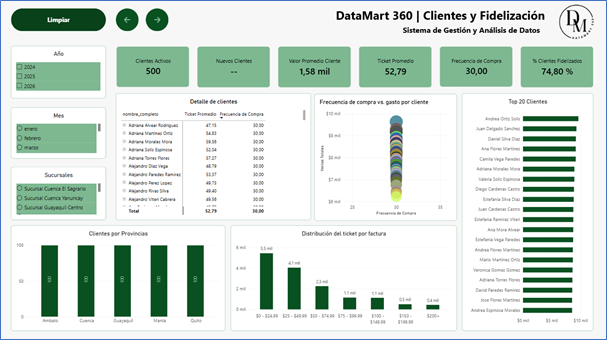

The page's visual inventory and layout, read from the dashboard file:
{"tool":"powerbi","page":{"name":"Clientes & Fidelización","canvas":[1920,1080],"ordinal":2},"visuals":[{"type":"textbox","box":[1055.3,24.4,677.8,55.6],"z":0,"group":"g1"},{"type":"actionButton","box":[465.1,27.1,72.4,72.4],"z":0,"group":"g3"},{"type":"listSlicer","fields":{"Values":["Calendario.Año"]},"box":[39.5,146.2,300,166],"z":0,"group":"g4"},{"type":"cardVisual","fields":{"Data":["_Medidas.Ticket Promedio"]},"box":[1138.9,148.1,230,130.3],"z":0,"group":"g5"},{"type":"actionButton","box":[371,27.1,72.4,72.4],"z":1000,"group":"g3"},{"type":"cardVisual","fields":{"Data":["_Medidas.Clientes Activos"]},"box":[372.2,148.1,230,129.6],"z":1000,"group":"g5"},{"type":"listSlicer","title":"Mes","fields":{"Values":["Calendario.Nombre Mes"]},"box":[39.9,340.2,300,162],"z":1000,"group":"g4"},{"type":"cardVisual","fields":{"Data":["_Medidas.Valor Promedio Cliente"]},"box":[883.3,148.1,230,130.3],"z":2000,"group":"g5"},{"type":"listSlicer","title":"Sucursales","fields":{"Values":["sucursales.nombre"]},"box":[39.9,530.2,300,168],"z":2000,"group":"g4"},{"type":"cardVisual","fields":{"Data":["_Medidas.Frecuencia de Compra"]},"box":[1394.4,148.1,230,128.5],"z":3000,"group":"g5"},{"type":"cardVisual","fields":{"Data":["_Medidas.Nuevos Clientes"]},"box":[627.8,148.1,230,130.3],"z":4000,"group":"g5"},{"type":"clusteredBarChart","title":"Top 20 Clientes","fields":{"Category":["clientes.nombre_completo"],"Y":["_Medidas.Ventas Totales"]},"box":[1464.8,296.3,414.8,751.9],"z":5000},{"type":"clusteredColumnChart","title":"Clientes por Provincias","fields":{"Category":["clientes.provincia"],"Y":["_Medidas.Clientes Activos"]},"box":[38.9,714.8,677.8,333.3],"z":6000},{"type":"clusteredColumnChart","title":"Distribución del ticket por factura","fields":{"Category":["facturas.Rango Ticket"],"Y":["CountNonNull(facturas.id_factura)"]},"box":[733.3,714.8,714.8,333.3],"z":7000},{"type":"scatterChart","title":"Frecuencia de compra vs. gasto por cliente","fields":{"Category":["clientes.nombre_completo"],"Size":["_Medidas.Ventas Totales"],"X":["_Medidas.Frecuencia de Compra"],"Y":["_Medidas.Ventas Totales"]},"box":[998.1,298.1,450.6,401.7],"z":8000},{"type":"pivotTable","title":"Detalle de clientes","fields":{"Rows":["clientes.nombre_completo","clientes.id_cliente"],"Values":["_Medidas.Ticket Promedio","_Medidas.Frecuencia de Compra"]},"box":[371,296.8,617.1,401.7],"z":9000},{"type":"actionButton","title":"Limpiar","box":[38,27.1,300.4,72.4],"z":10000},{"type":"group","id":"g1","title":"Grupo 2","box":[1055.3,24.4,677.8,97.1],"z":11000,"group":"g2"},{"type":"group","id":"g2","title":"Grupo 4","box":[1055.3,24.4,677.8,97.1],"z":11000},{"type":"group","id":"g3","title":"Grupo 1","box":[371,27.1,166.5,72.4],"z":12000},{"type":"group","id":"g4","title":"Grupo 3","box":[39.5,146.2,300.4,552],"z":13000},{"type":"cardVisual","fields":{"Data":["_Medidas.% Clientes Fidelizados"]},"box":[1650,148.1,230,130.3],"z":13004,"group":"g5"},{"type":"group","id":"g5","title":"Grupo 5","box":[372.2,148.1,1507.8,130.3],"z":13005},{"type":"image","box":[1757.4,3.7,138.9,137],"z":13006},{"type":"textbox","box":[1278.3,79.5,446,42],"z":16000,"group":"g1"}]}

Visuals, with their boxes in screenshot pixels (x1, y1, x2, y2), scaled from the page's 1920x1080 canvas onto the 607x340 screenshot:
textbox: 334:8:548:25
actionButton: 147:9:170:31
listSlicer - Calendario.Año: 12:46:107:98
cardVisual - _Medidas.Ticket Promedio: 360:47:433:88
actionButton: 117:9:140:31
cardVisual - _Medidas.Clientes Activos: 118:47:190:87
"Mes" listSlicer: 13:107:107:158
cardVisual - _Medidas.Valor Promedio Cliente: 279:47:352:88
"Sucursales" listSlicer: 13:167:107:220
cardVisual - _Medidas.Frecuencia de Compra: 441:47:514:87
cardVisual - _Medidas.Nuevos Clientes: 198:47:271:88
"Top 20 Clientes" clusteredBarChart: 463:93:594:330
"Clientes por Provincias" clusteredColumnChart: 12:225:227:330
"Distribución del ticket por factura" clusteredColumnChart: 232:225:458:330
"Frecuencia de compra vs. gasto por cliente" scatterChart: 316:94:458:220
"Detalle de clientes" pivotTable: 117:93:312:220
"Limpiar" actionButton: 12:9:107:31
"Grupo 2" group: 334:8:548:38
"Grupo 4" group: 334:8:548:38
"Grupo 1" group: 117:9:170:31
"Grupo 3" group: 12:46:107:220
cardVisual - _Medidas.% Clientes Fidelizados: 522:47:594:88
"Grupo 5" group: 118:47:594:88
image: 556:1:600:44
textbox: 404:25:545:38
